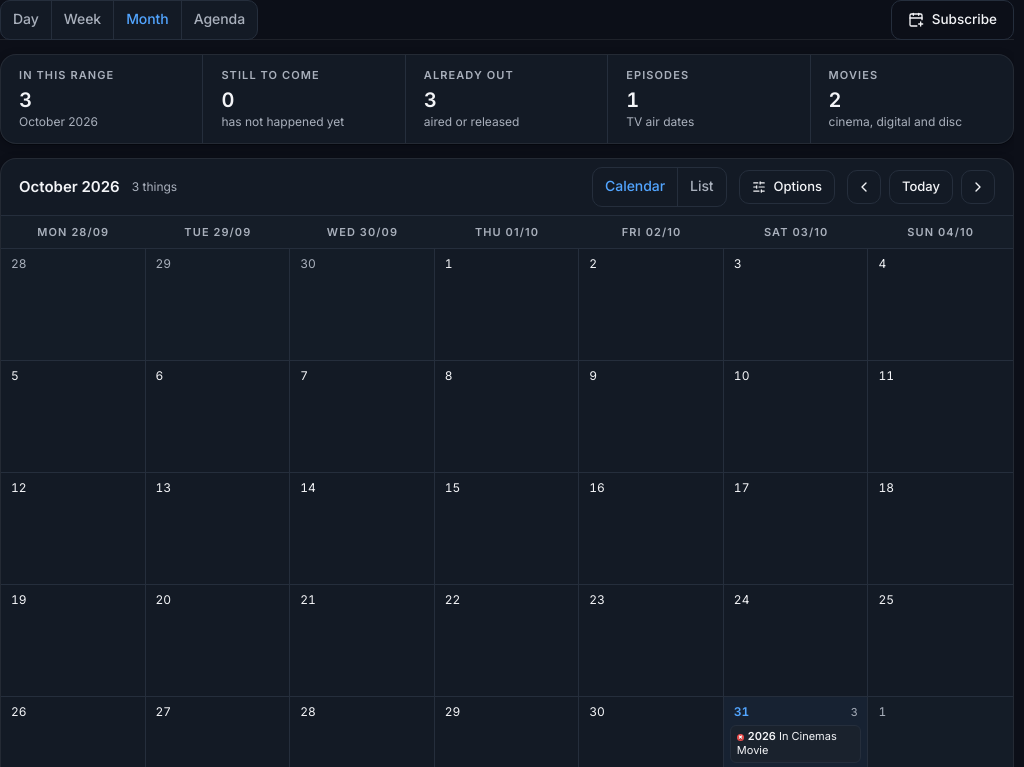
Test case: Calendar options drawer (#786) › hides a movie release type once its switch is turned off
# Month view, grid form, both movies visible by default.
Click the radio button labelled "List" at (702, 186), box [678,168,726,206]
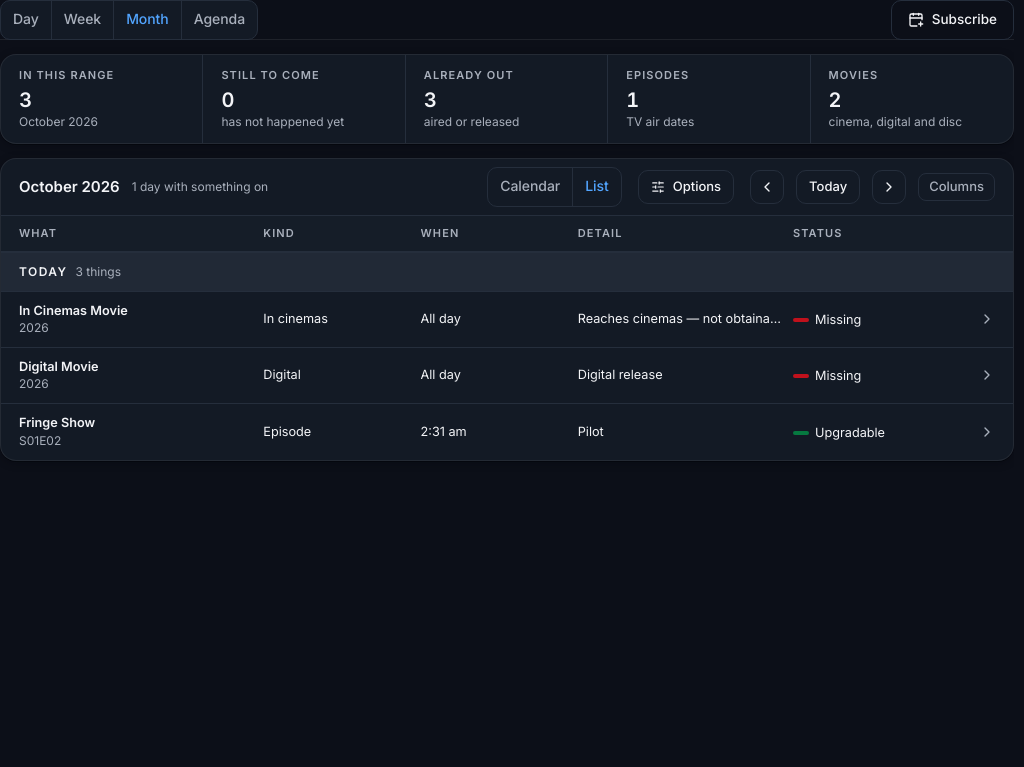
Expected: the text "In Cinemas Movie" is shown, [19,303,128,318]
Expected: the text "Digital Movie" is shown, [19,359,98,374]
Click the button "Options" at (686, 186), box [638,170,734,204]
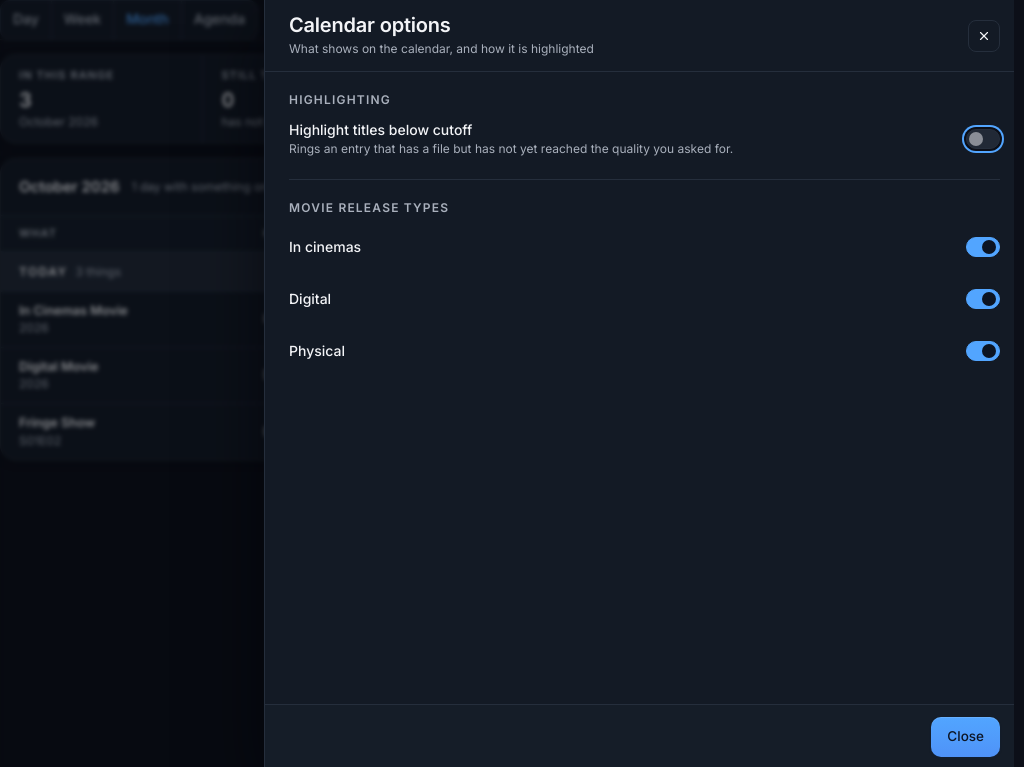
Click the 3rd switch named "Digital" at (983, 299), box [966,289,1000,309]
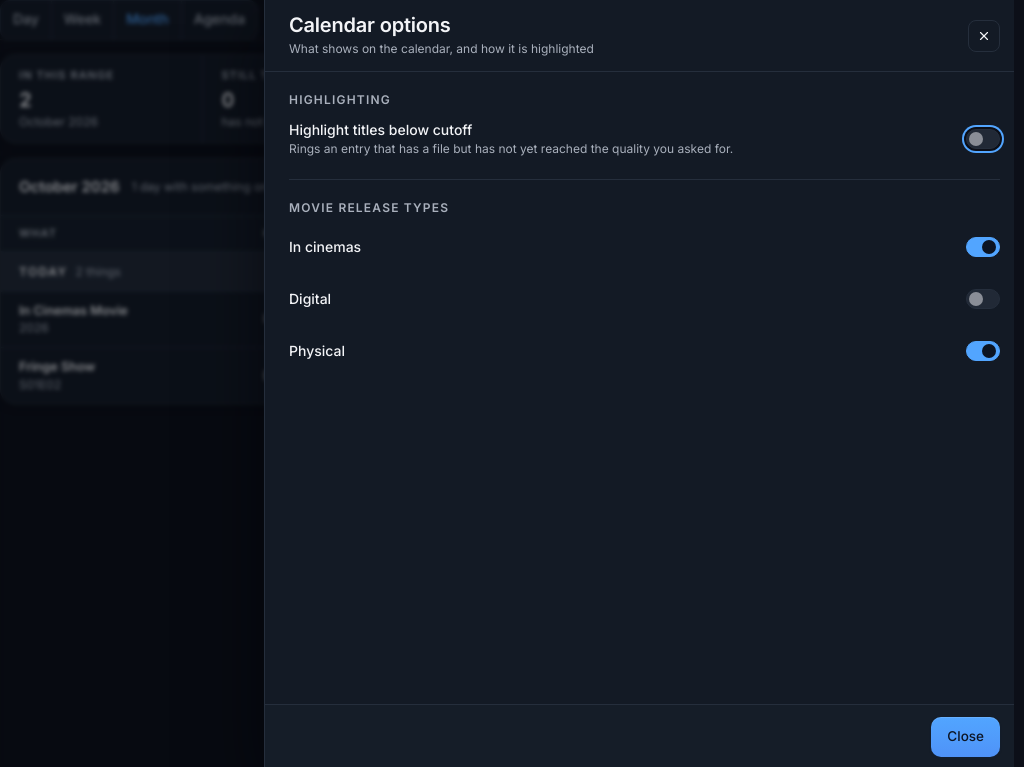
Expected: the text "In Cinemas Movie" is shown, [19,303,128,318]
Now the text "Digital Movie" is gone
